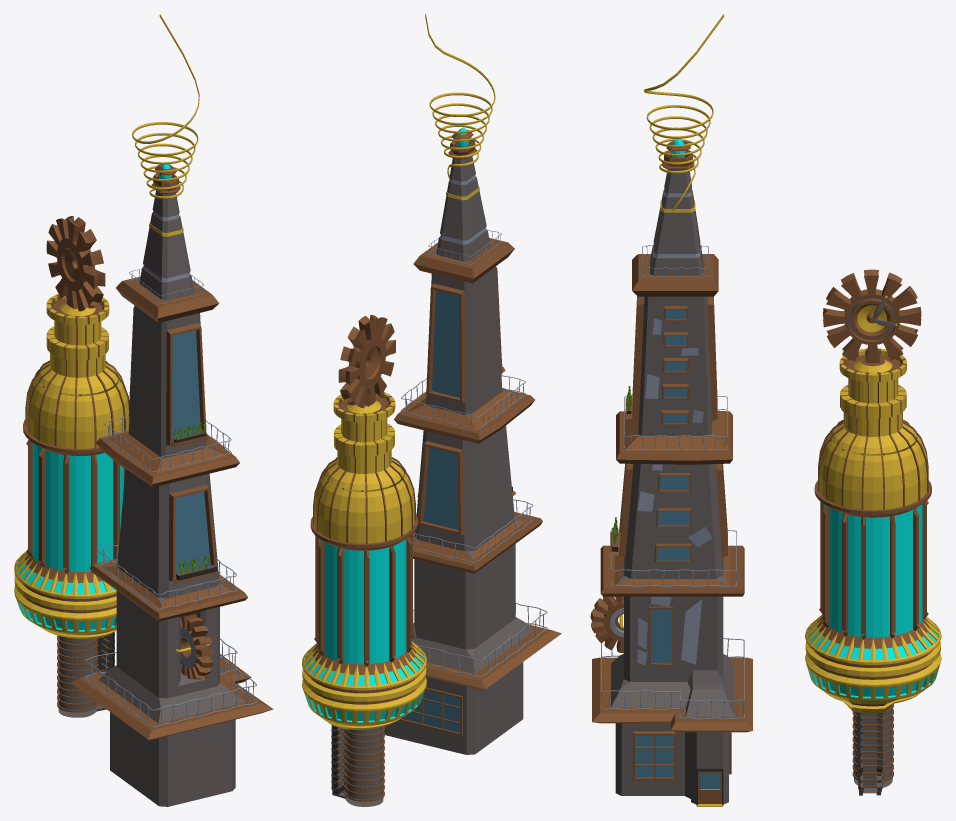
Rendered from house_middle.fbx.
3 views of the same model, side by side, from view 1: azimuth 30°, elevation 25°; view 2: azimuth 150°, elevation 25°; view 3: azimuth 270°, elevation 25° (orthographic). The views are drawn at different scales.
Visible parts, largest first — view 1: Circle, Cube.001; view 2: Circle, Cube.001; view 3: Circle, Cube.001.
Part boxes in pixels (left/top/right/bottom): Circle: left=71, top=14, right=273, bottom=806; Cube.001: left=14, top=216, right=129, bottom=717; Circle: left=384, top=14, right=561, bottom=754; Cube.001: left=302, top=314, right=426, bottom=806; Circle: left=590, top=14, right=752, bottom=806; Cube.001: left=805, top=269, right=941, bottom=795.
Size of the model in its own units: 36.59 by 183 by 75.55.
